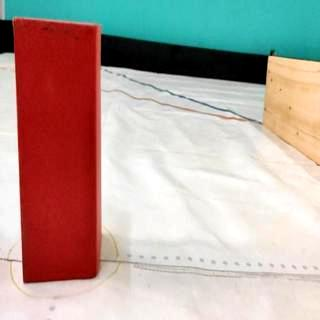redbox: (10, 18, 101, 282)
